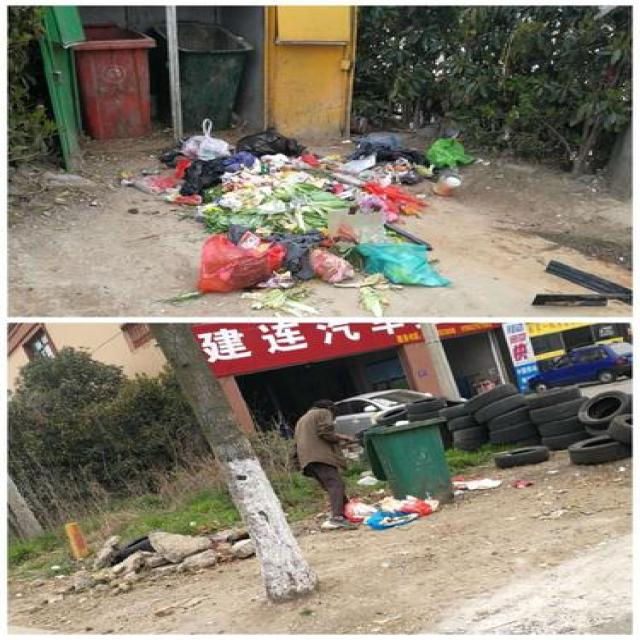garbage: (118, 118, 469, 312), (341, 492, 442, 528), (447, 474, 536, 496)
garbage_bin: (72, 20, 155, 138), (159, 23, 249, 128), (360, 417, 452, 503)
